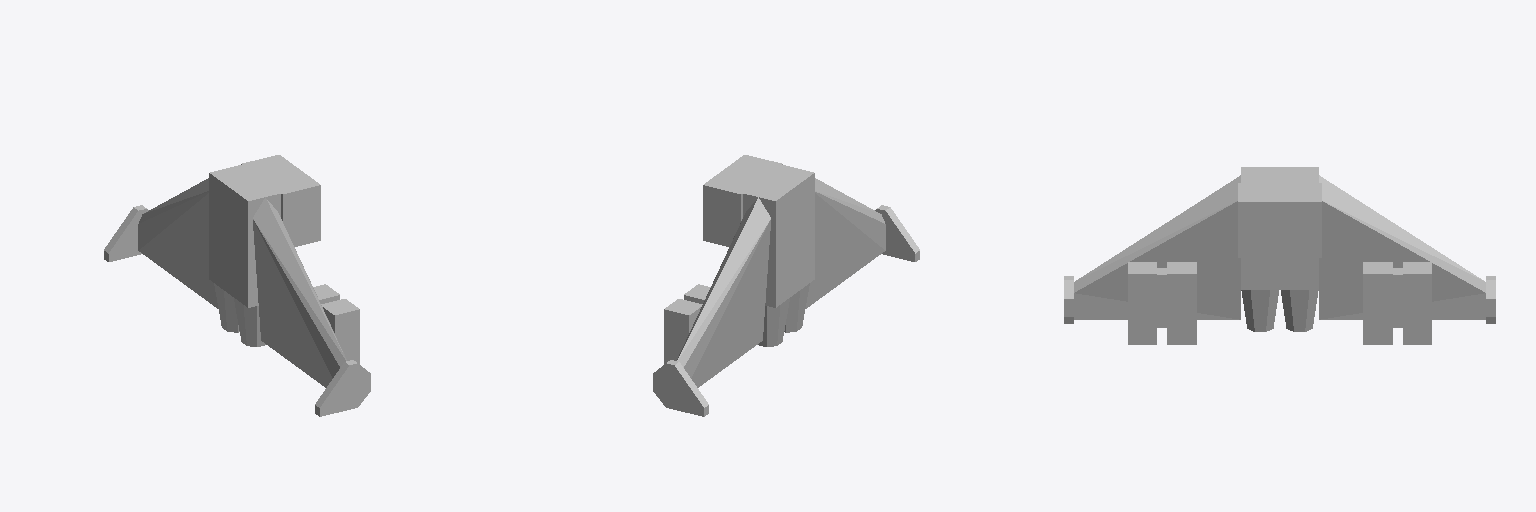
File: jet_wingpack.obj
The picture shows the model from 3 angles: view 1: azimuth 30°, elevation 25°; view 2: azimuth 150°, elevation 25°; view 3: azimuth 270°, elevation 25°; orthographic projection.
Parts seen in each view (by area): view 1: cuboid.013, cuboid.009, cuboid.003, cuboid.010, cuboid.008, cuboid.005, cuboid.004, cuboid.012, cuboid.011; view 2: cuboid.003, cuboid.009, cuboid.013, cuboid.010, cuboid.004, cuboid.001, cuboid.008, cuboid.011, cuboid.012; view 3: cuboid.003, cuboid.013, cuboid.010, cuboid.009, cuboid.002, cuboid.007, cuboid.001, cuboid.005, cuboid.011, cuboid.012, cuboid, cuboid.006.
Boxes of the visible parts, x1=… form: cuboid.013: x1=253, y1=197, x2=346, y2=387; cuboid.009: x1=209, y1=164, x2=281, y2=307; cuboid.003: x1=138, y1=178, x2=217, y2=308; cuboid.010: x1=241, y1=155, x2=320, y2=246; cuboid.008: x1=315, y1=360, x2=370, y2=416; cuboid.005: x1=321, y1=299, x2=359, y2=363; cuboid.004: x1=104, y1=205, x2=148, y2=261; cuboid.012: x1=234, y1=298, x2=265, y2=346; cuboid.011: x1=214, y1=283, x2=239, y2=332; cuboid.003: x1=677, y1=197, x2=770, y2=387; cuboid.009: x1=742, y1=164, x2=814, y2=307; cuboid.013: x1=806, y1=178, x2=885, y2=308; cuboid.010: x1=703, y1=155, x2=782, y2=246; cuboid.004: x1=653, y1=360, x2=708, y2=416; cuboid.001: x1=664, y1=299, x2=702, y2=363; cuboid.008: x1=875, y1=205, x2=919, y2=261; cuboid.011: x1=758, y1=298, x2=789, y2=346; cuboid.012: x1=784, y1=283, x2=809, y2=332; cuboid.003: x1=1319, y1=175, x2=1485, y2=319; cuboid.013: x1=1074, y1=175, x2=1240, y2=319; cuboid.010: x1=1238, y1=183, x2=1321, y2=257; cuboid.009: x1=1241, y1=167, x2=1318, y2=289; cuboid.002: x1=1363, y1=262, x2=1392, y2=344; cuboid.007: x1=1167, y1=262, x2=1196, y2=344; cuboid.001: x1=1403, y1=262, x2=1431, y2=344; cuboid.005: x1=1128, y1=262, x2=1156, y2=344; cuboid.011: x1=1281, y1=290, x2=1318, y2=331; cuboid.012: x1=1241, y1=290, x2=1278, y2=331; cuboid: x1=1393, y1=268, x2=1402, y2=327; cuboid.006: x1=1157, y1=268, x2=1166, y2=327.
Bounding box in the file's own units: 10.41 × 17 × 44.